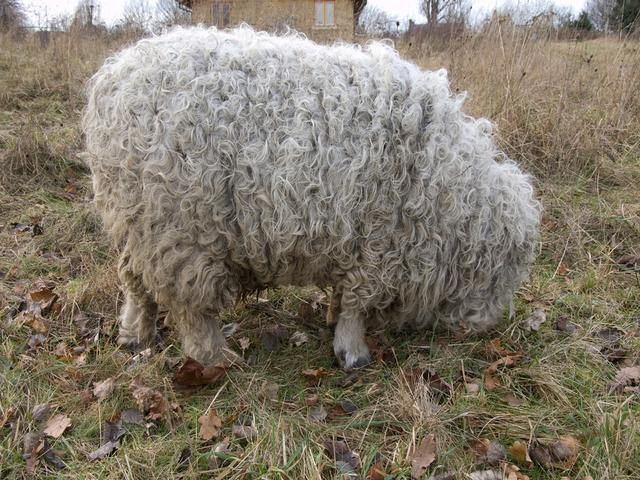sheep: (48, 9, 549, 399)
